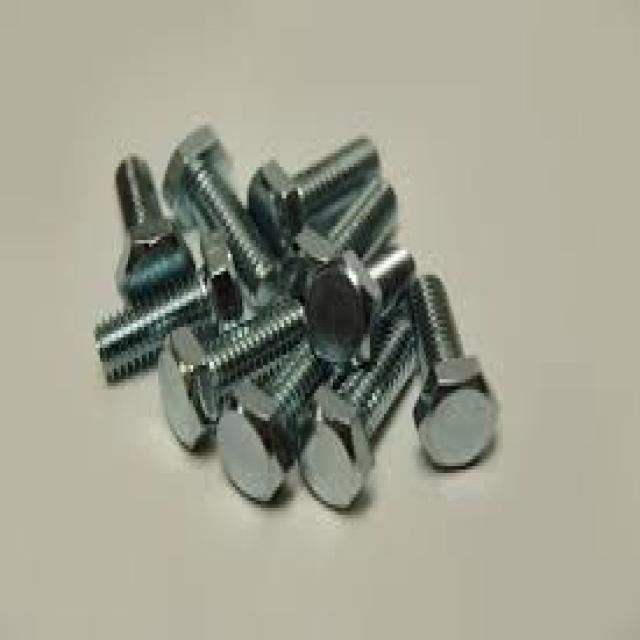metal: (296, 303, 410, 508), (161, 118, 286, 303), (91, 226, 242, 379), (156, 299, 302, 456), (214, 345, 340, 505), (407, 271, 496, 470), (247, 136, 377, 244), (300, 244, 412, 359), (112, 150, 196, 303), (289, 174, 396, 282)
